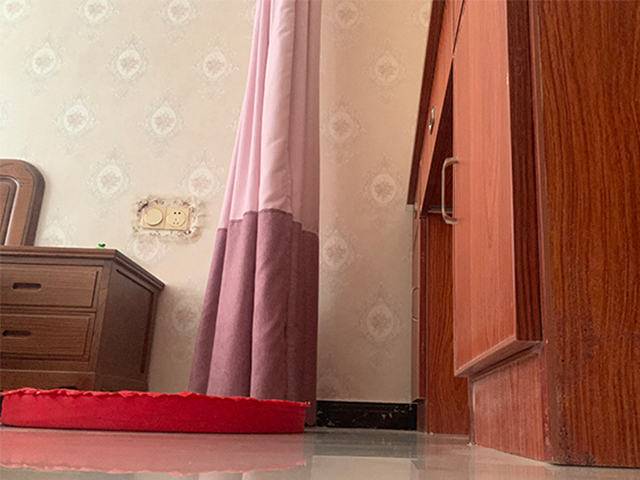cabinet: (1, 243, 166, 394)
curtain: (189, 1, 321, 427)
table: (406, 1, 639, 470)
